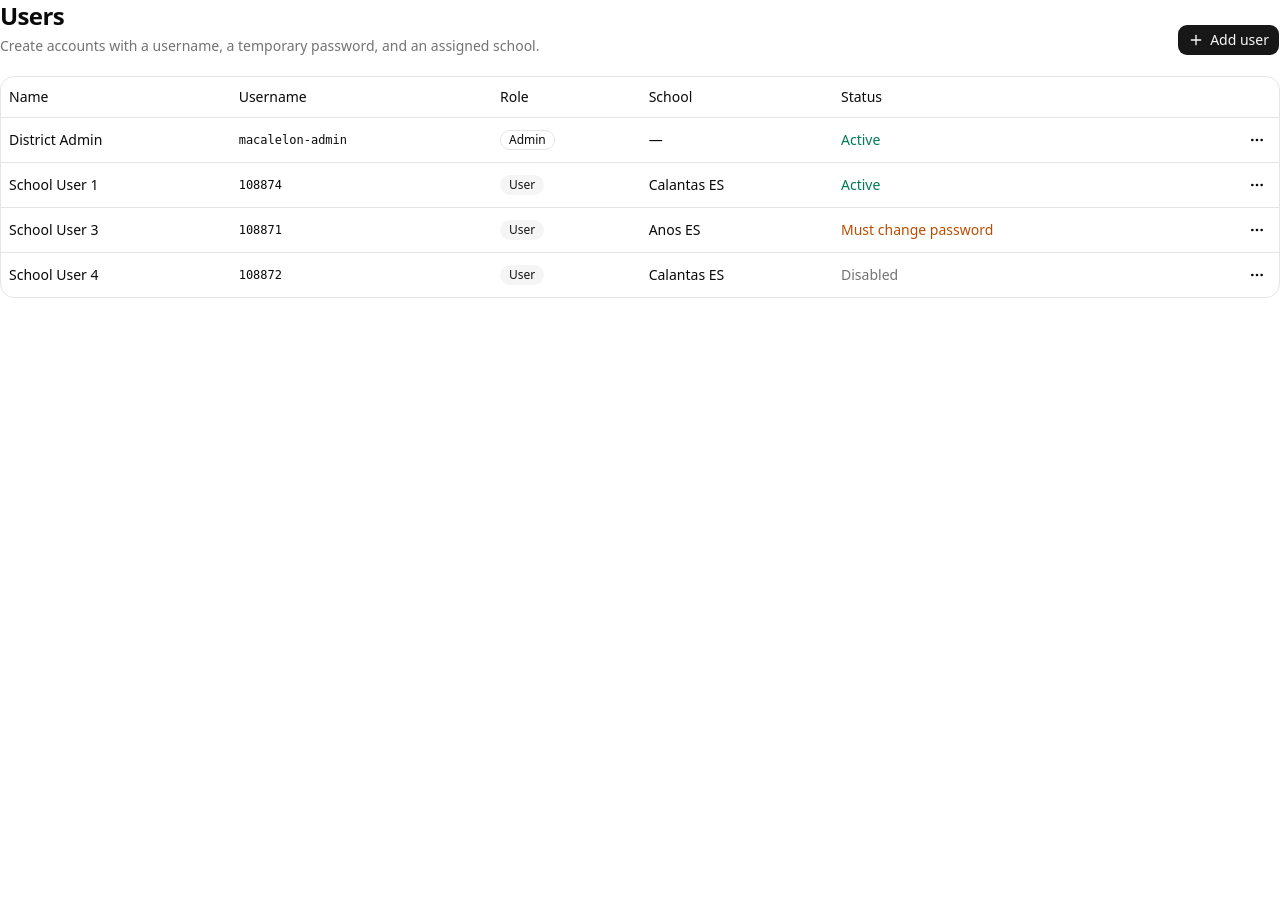
UsersPage › creates a user and shows the returned temporary password once
The image size is (1280, 900).
Expected: the text "School User 1" is shown, [1,162,231,207]
Click the button "Add user": (1229, 40) [1177,24,1279,56]
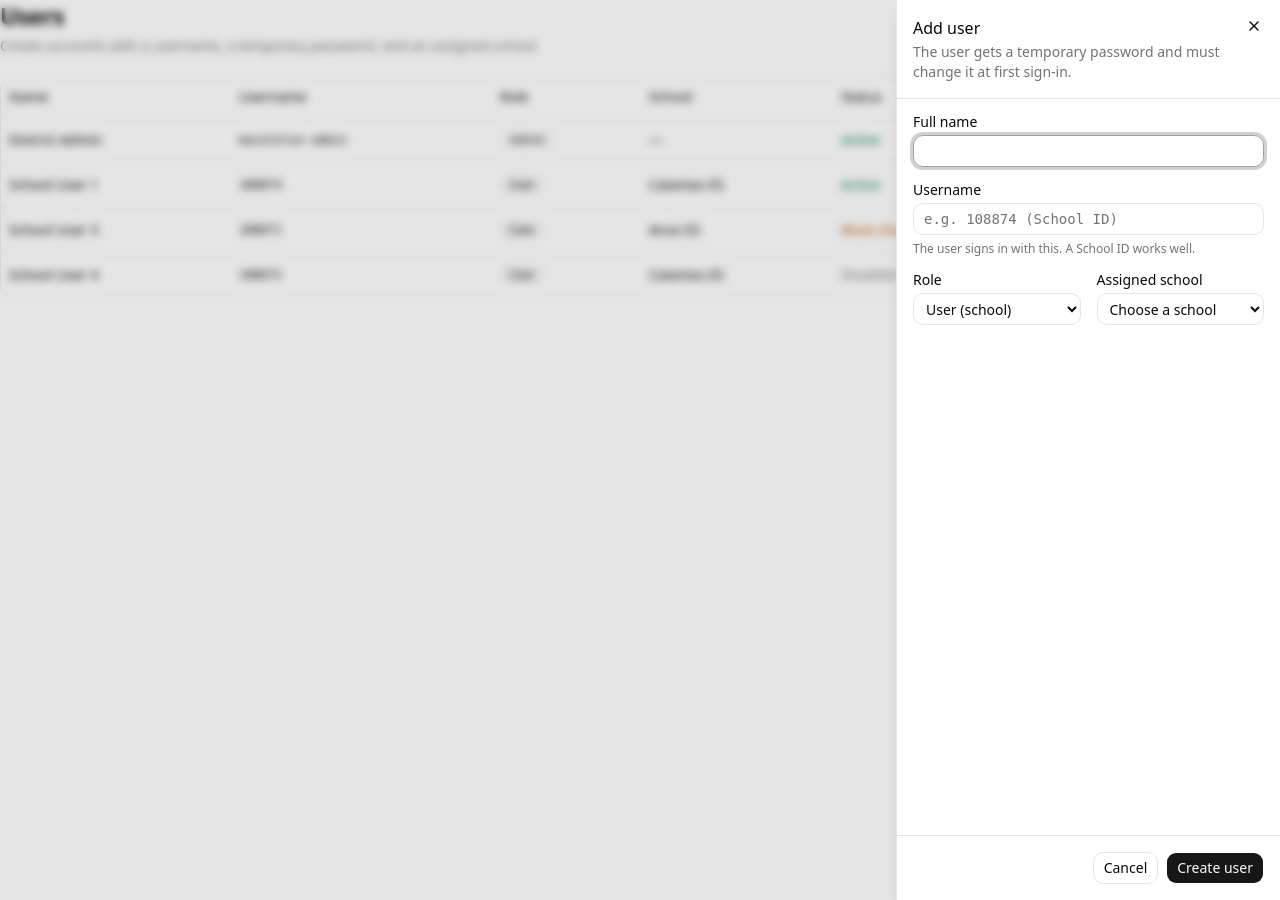
In the field labelled "Full name": (1088, 151) [913,135,1264,167], type "School User 5"
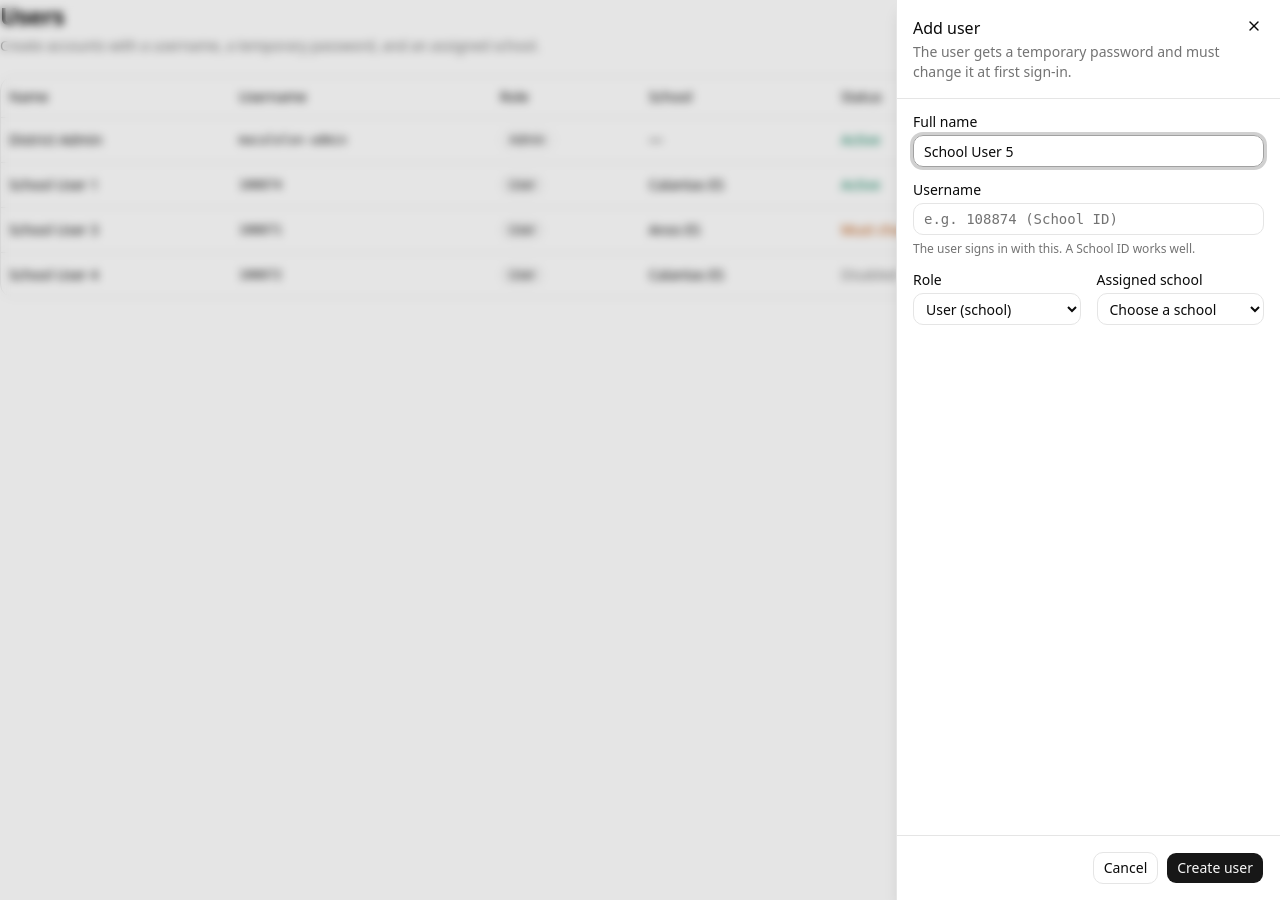
In the field labelled "Username": (1088, 219) [913,203,1264,235], type "108875"
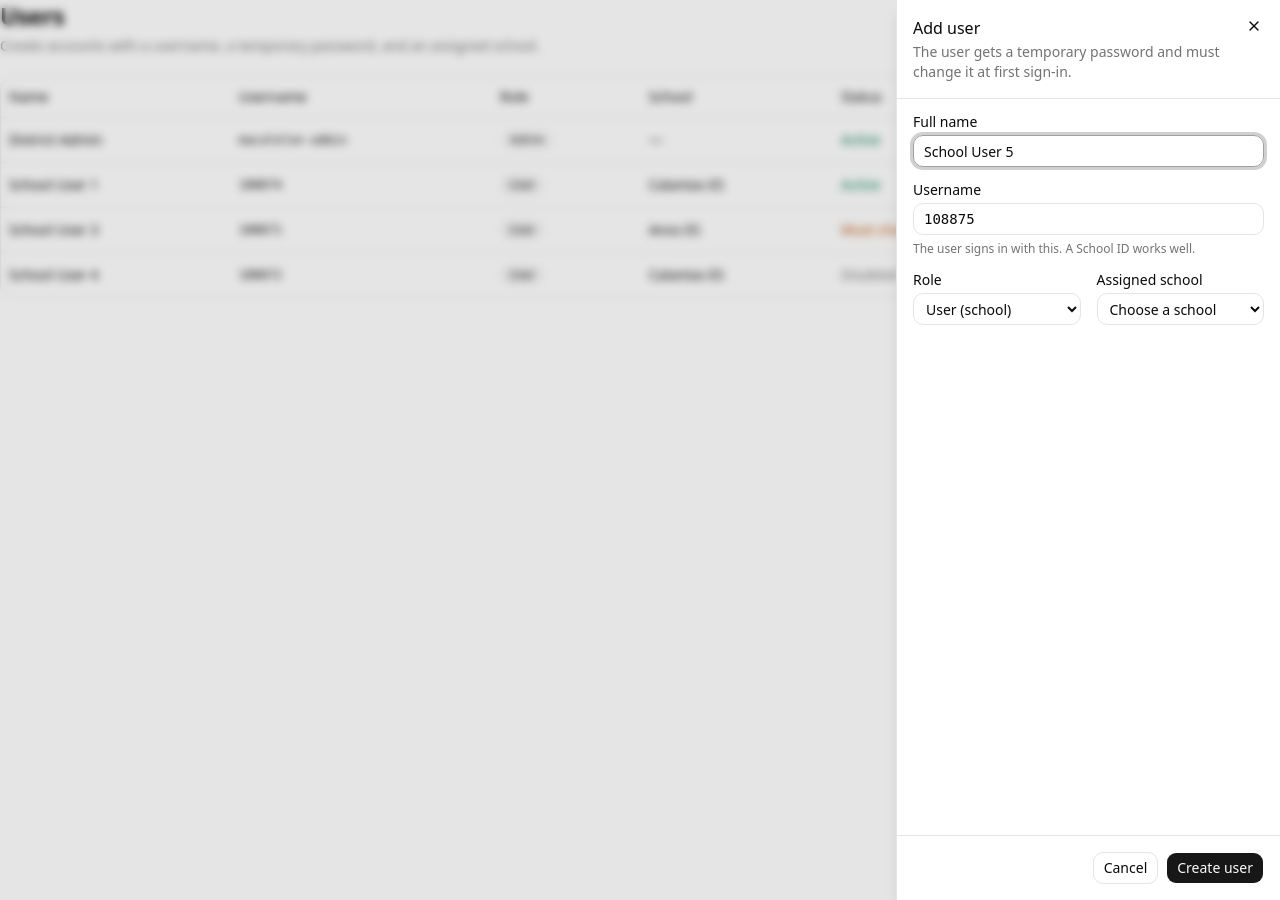
Select "Anos ES" in the dropdown labelled "Assigned school": (1180, 309) [1096,293,1264,325]
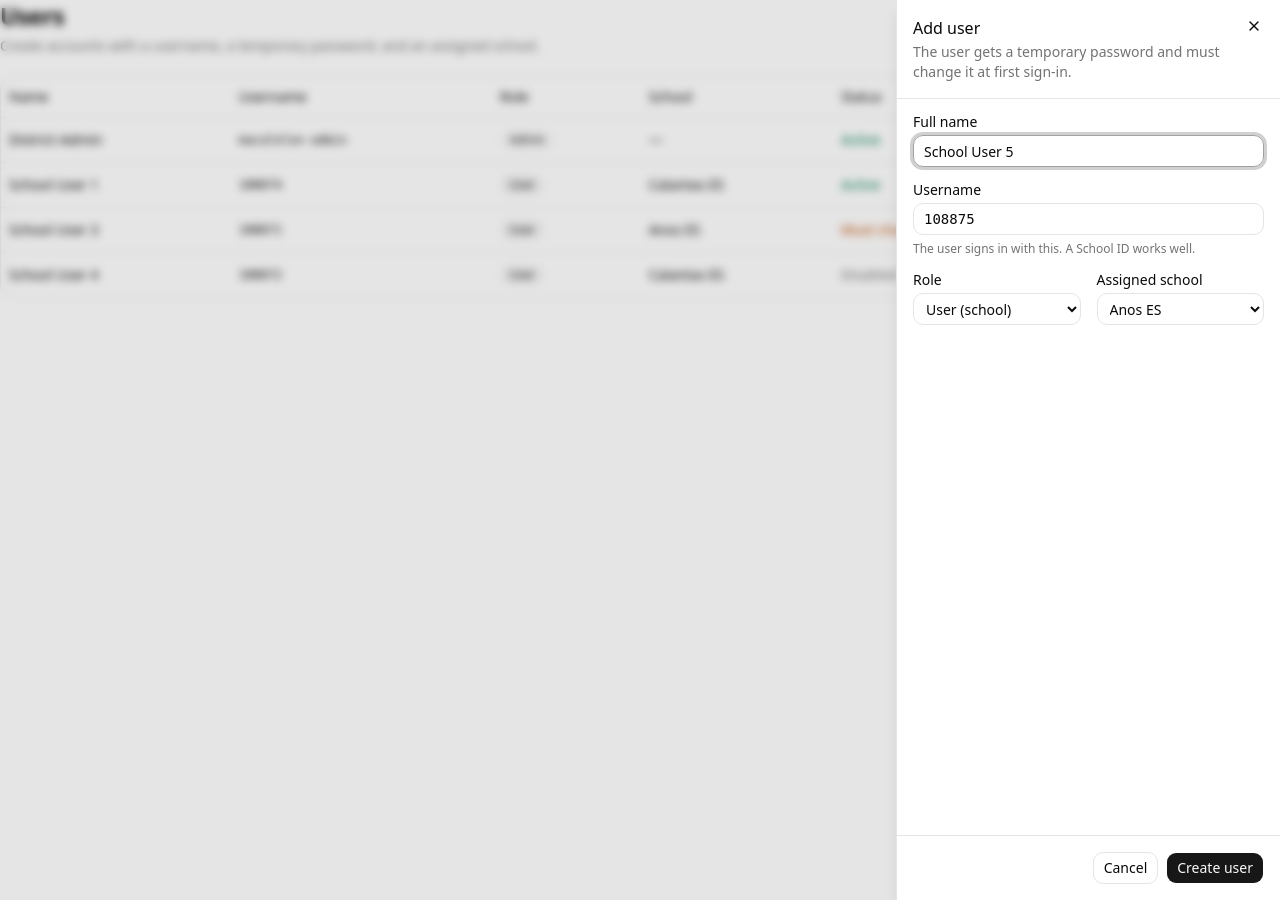
Click the button "Create user": (1215, 868) [1166,852,1264,884]
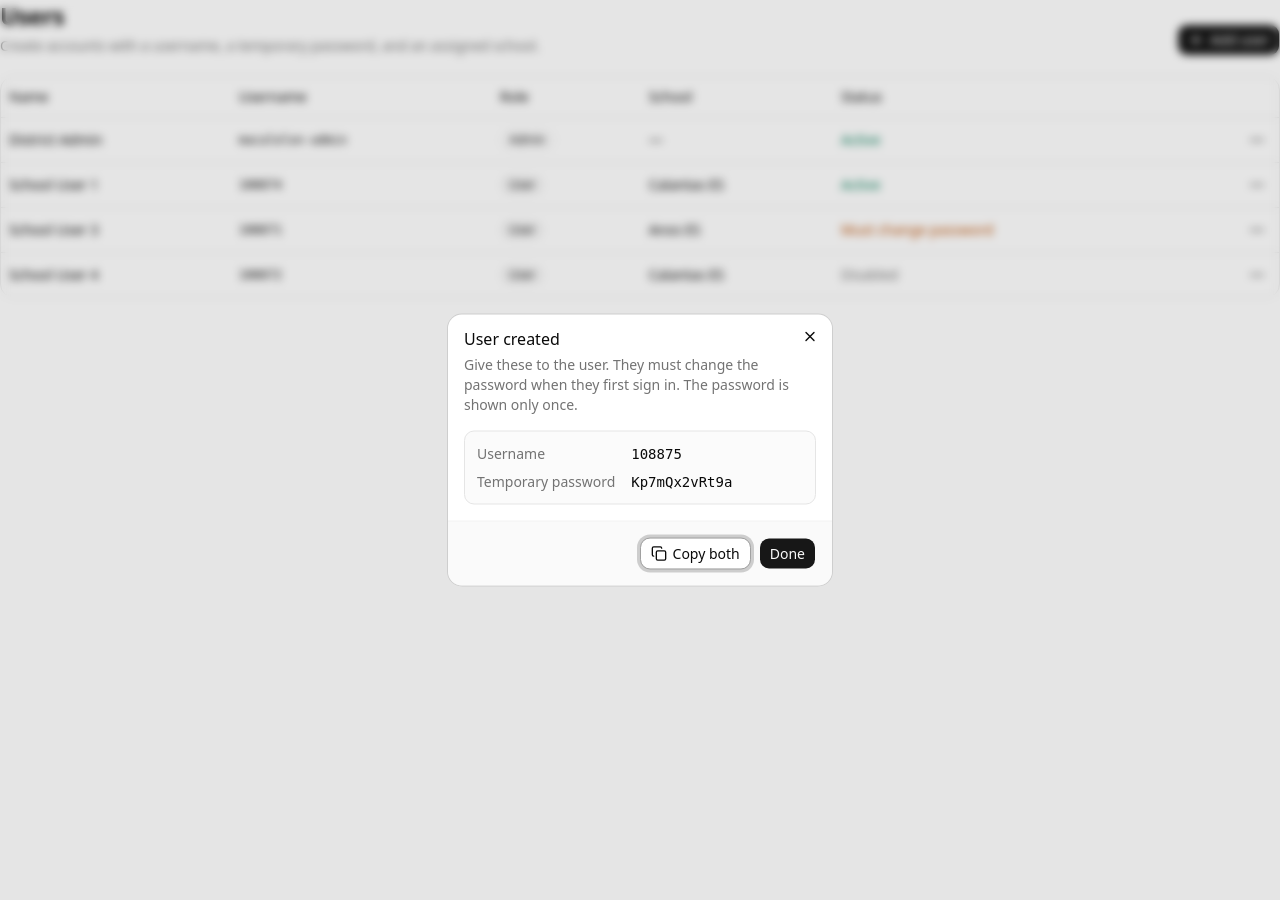
Expected: the text "Kp7mQx2vRt9a" is shown, [631,474,732,490]
Expected: the text "108875" is shown, [631,446,682,462]
Expected: the text "must change the password when they first sign in" is shown, [464,354,789,414]
Click the button "Done": (787, 554) [759,538,816,570]
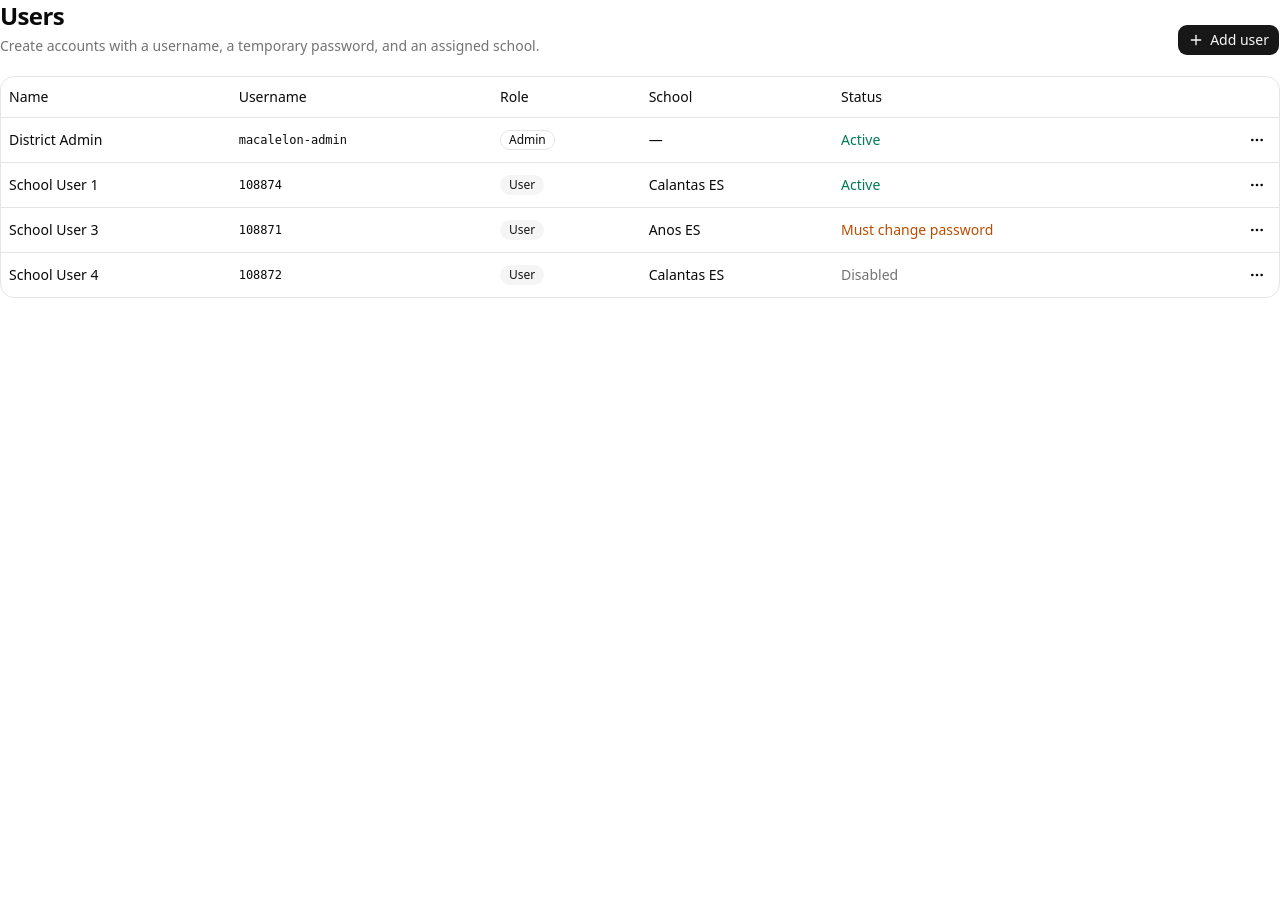
Expected: the text "Kp7mQx2vRt9a" is gone
